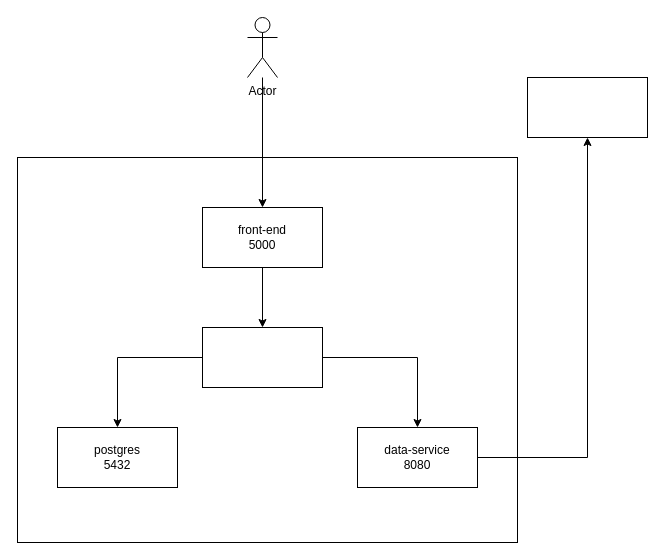
The diagram is 665 pixels wide and 560 high, and some of its shapes have lost their labels. The centre of each missing label's shape, as x and y in pixels:
"back-end 3000" goes at (x=262, y=357).
"google.com (443)" goes at (x=587, y=107).
